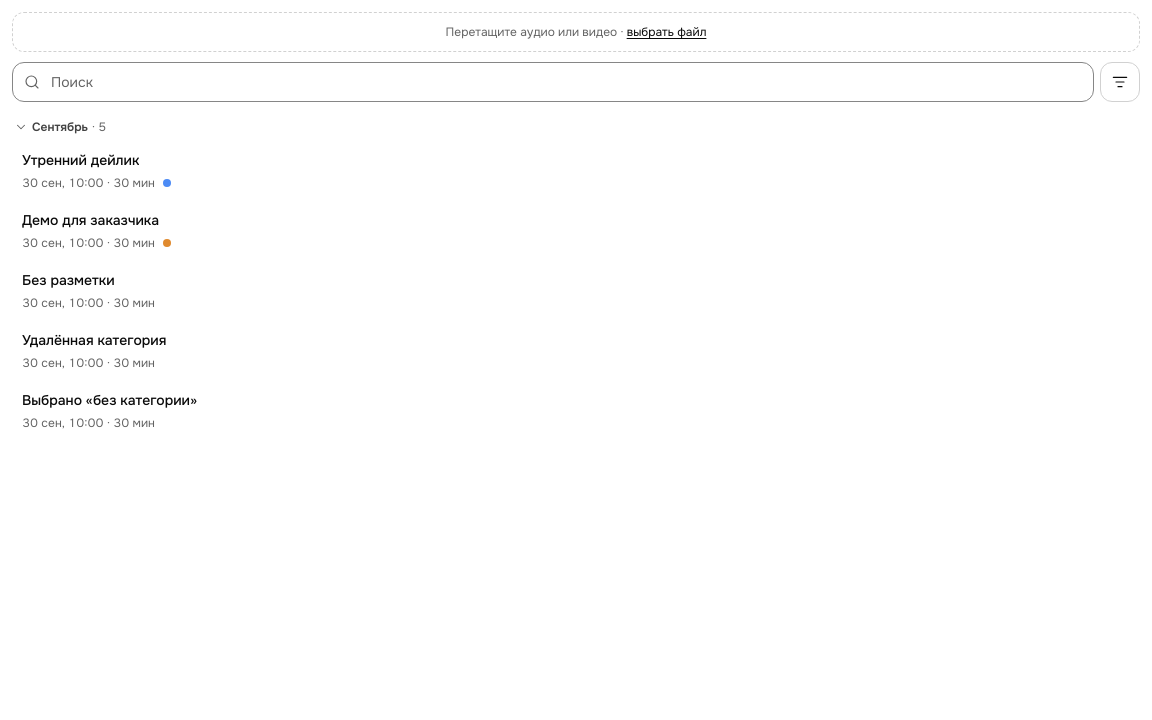
«Фильтры» → «Категория»: счётчики от резидента, несколько категорий, «Без категории»
Click the button named "Фильтры" at (1120, 82), box [1100,62,1140,102]
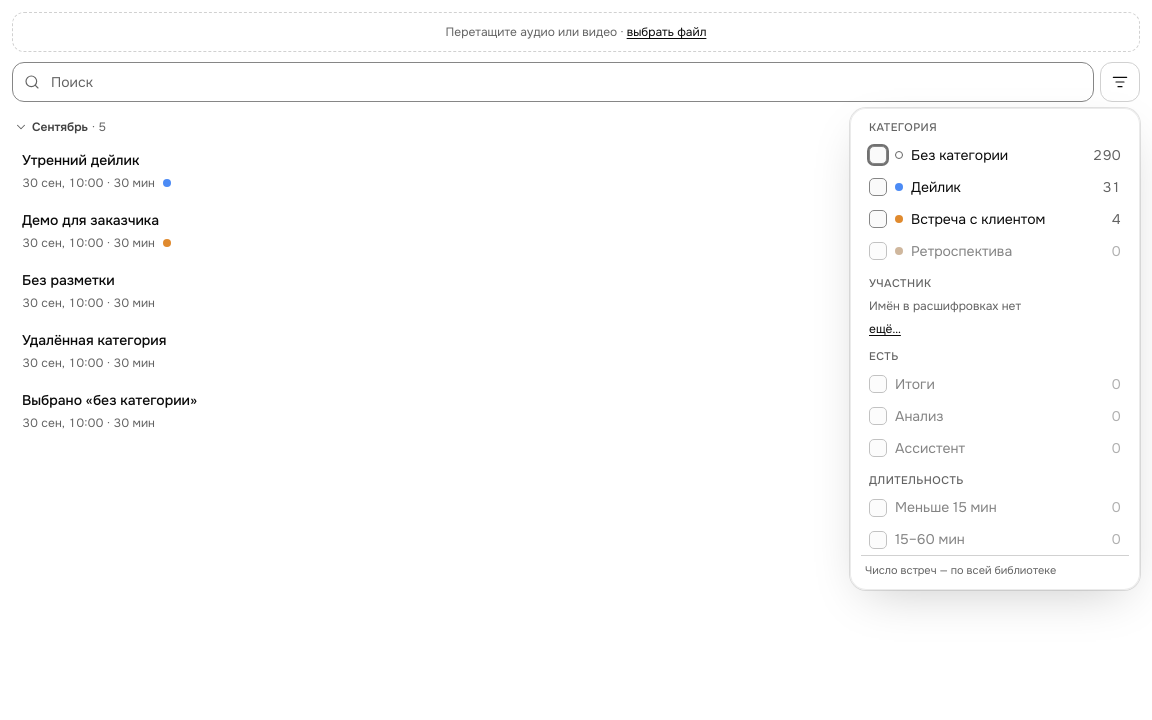
expect the label "Дейлик" reads "Дейлик 31": met, box [869,178,1121,196]
expect the label "Без категории" reads "Без категории 290": met, box [869,146,1121,164]
expect the label "Ретроспектива" reads "Ретроспектива 0": met, box [869,242,1121,260]
Click the checkbox labelled "Дейлик" at (878, 187), box [869,178,887,196]
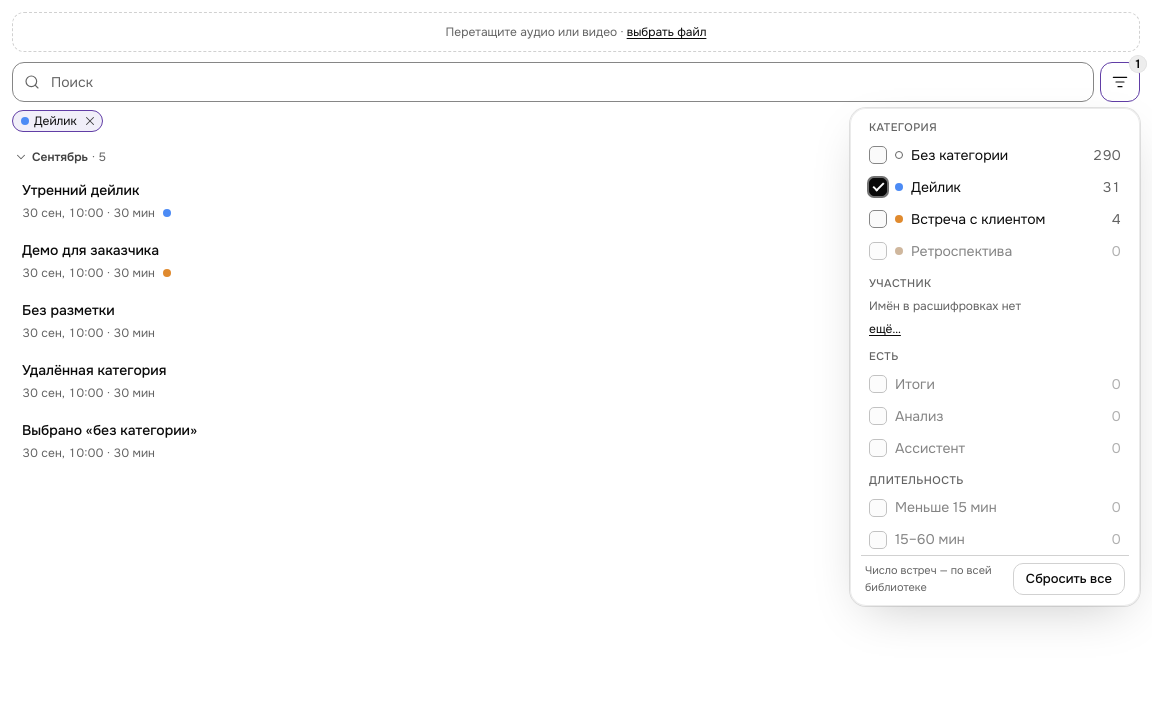
Click the checkbox labelled "Без категории" at (878, 155), box [869,146,887,164]
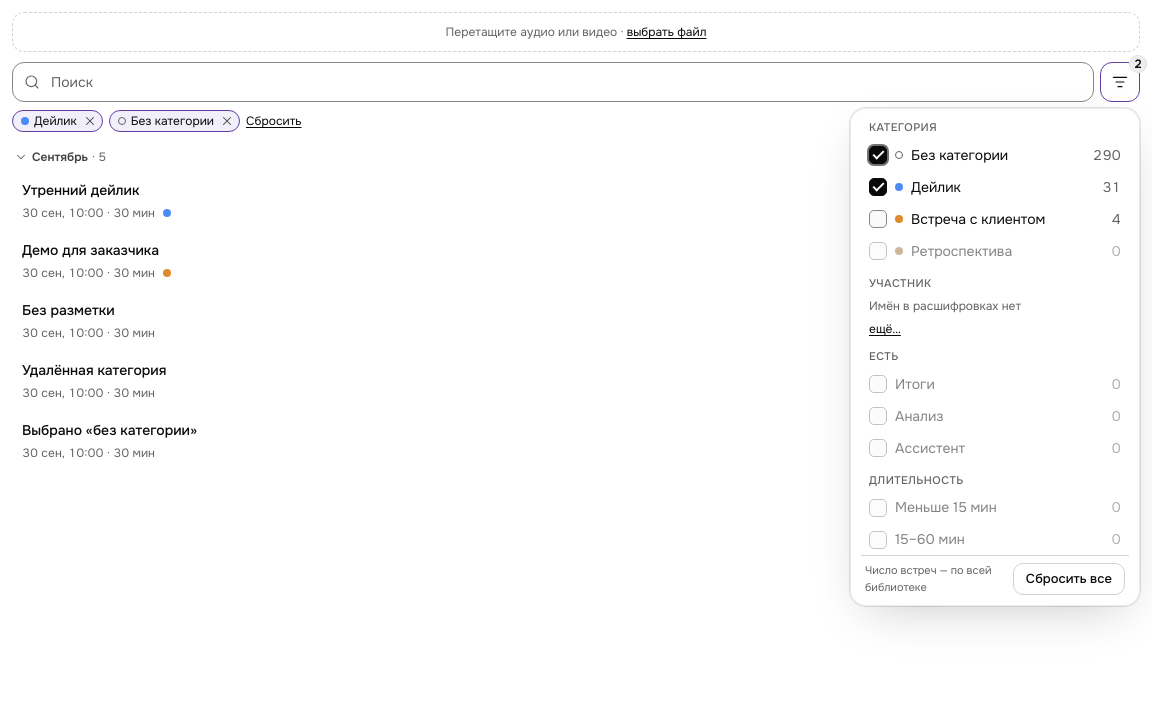
Click the checkbox labelled "Дейлик" at (878, 187), box [869,178,887,196]
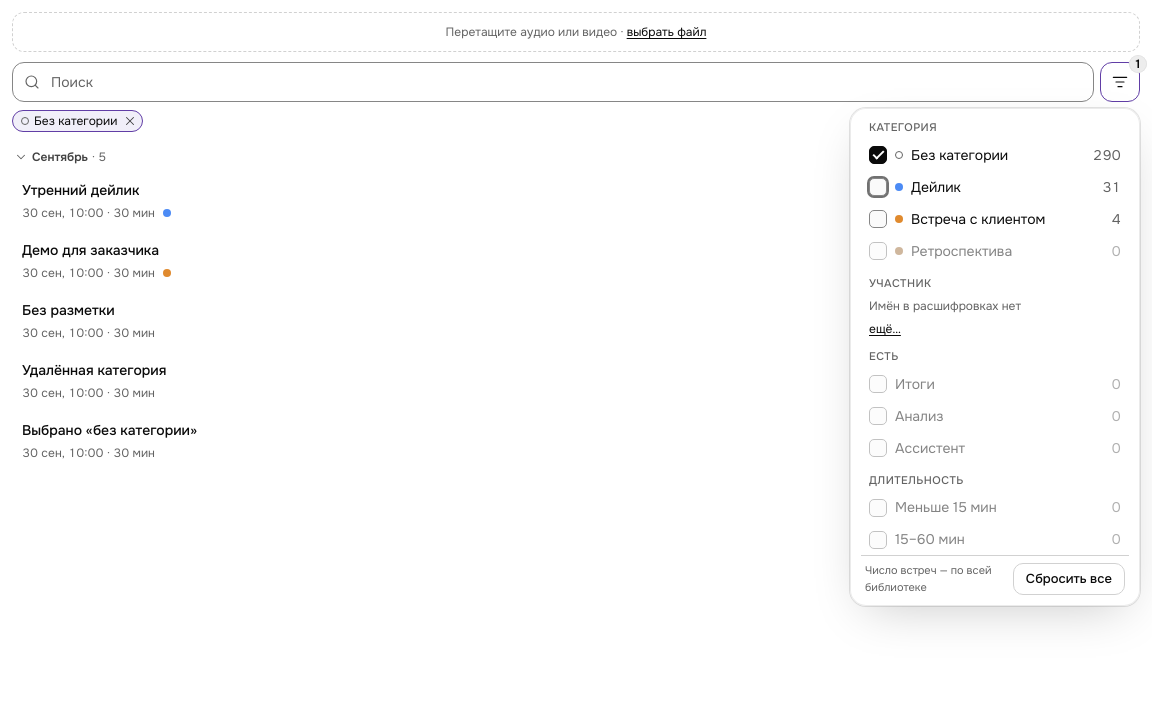
Press Escape
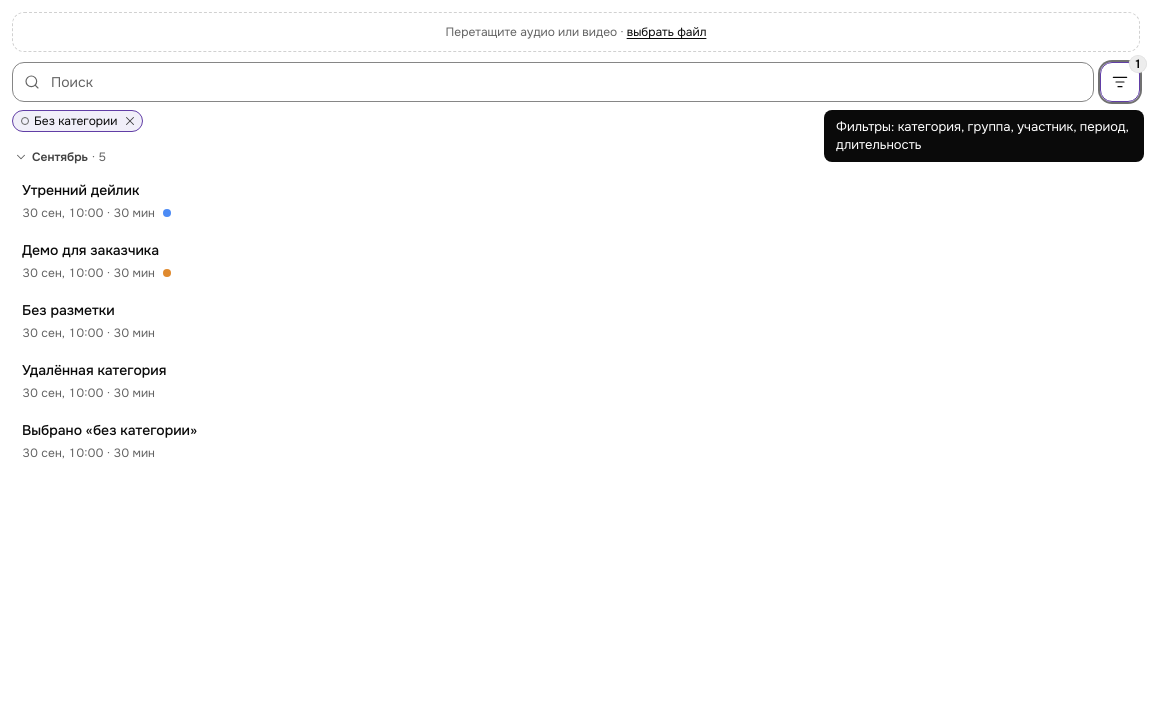
expect the dialog is gone: met
